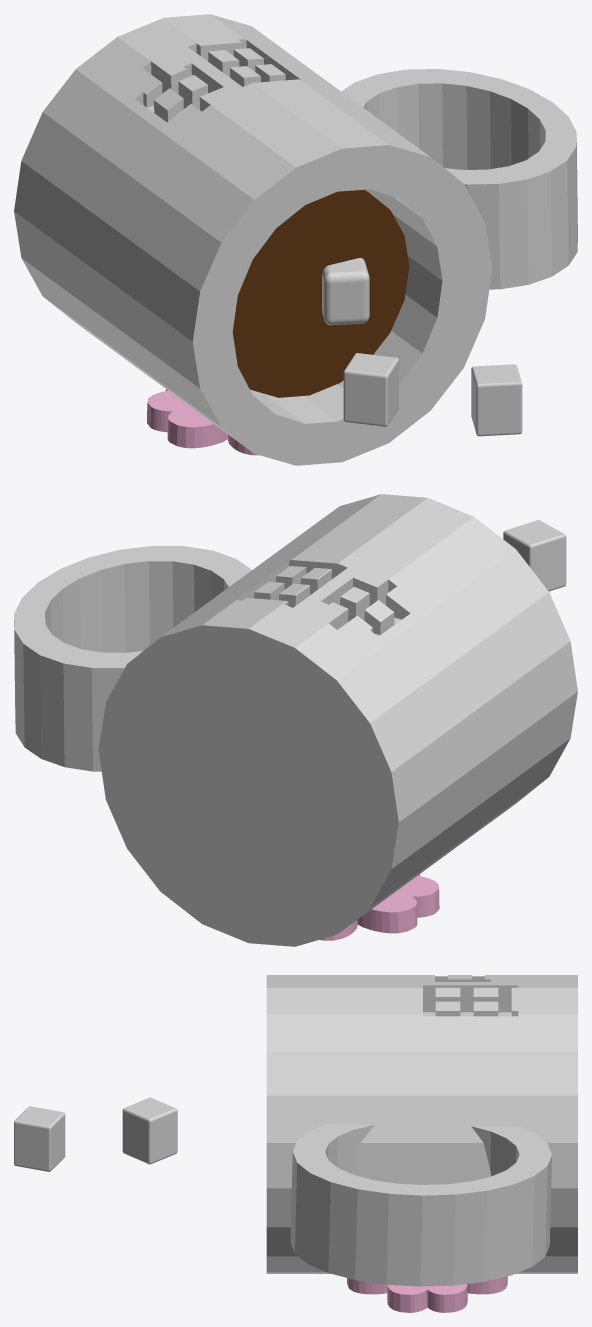
Rendered from tinker.obj.
3 renders of one model, top to bottom at view 1: azimuth 30°, elevation 25°; view 2: azimuth 150°, elevation 25°; view 3: azimuth 270°, elevation 25°, orthographic. The views are drawn at different scales.
Visible parts, largest first — view 1: group_0_16448250, group_0_6306067, group_0_15708628; view 2: group_0_16448250, group_0_15708628; view 3: group_0_16448250, group_0_15708628.
Part boxes in pixels (x1=…): group_0_16448250: x1=14, y1=14, x2=577, y2=465; group_0_6306067: x1=232, y1=189, x2=409, y2=397; group_0_15708628: x1=147, y1=389, x2=258, y2=455; group_0_16448250: x1=14, y1=494, x2=577, y2=946; group_0_15708628: x1=319, y1=874, x2=439, y2=940; group_0_16448250: x1=14, y1=975, x2=577, y2=1286; group_0_15708628: x1=347, y1=1276, x2=507, y2=1312.
Size of the model in its own units: 45 by 32 by 56.18.
